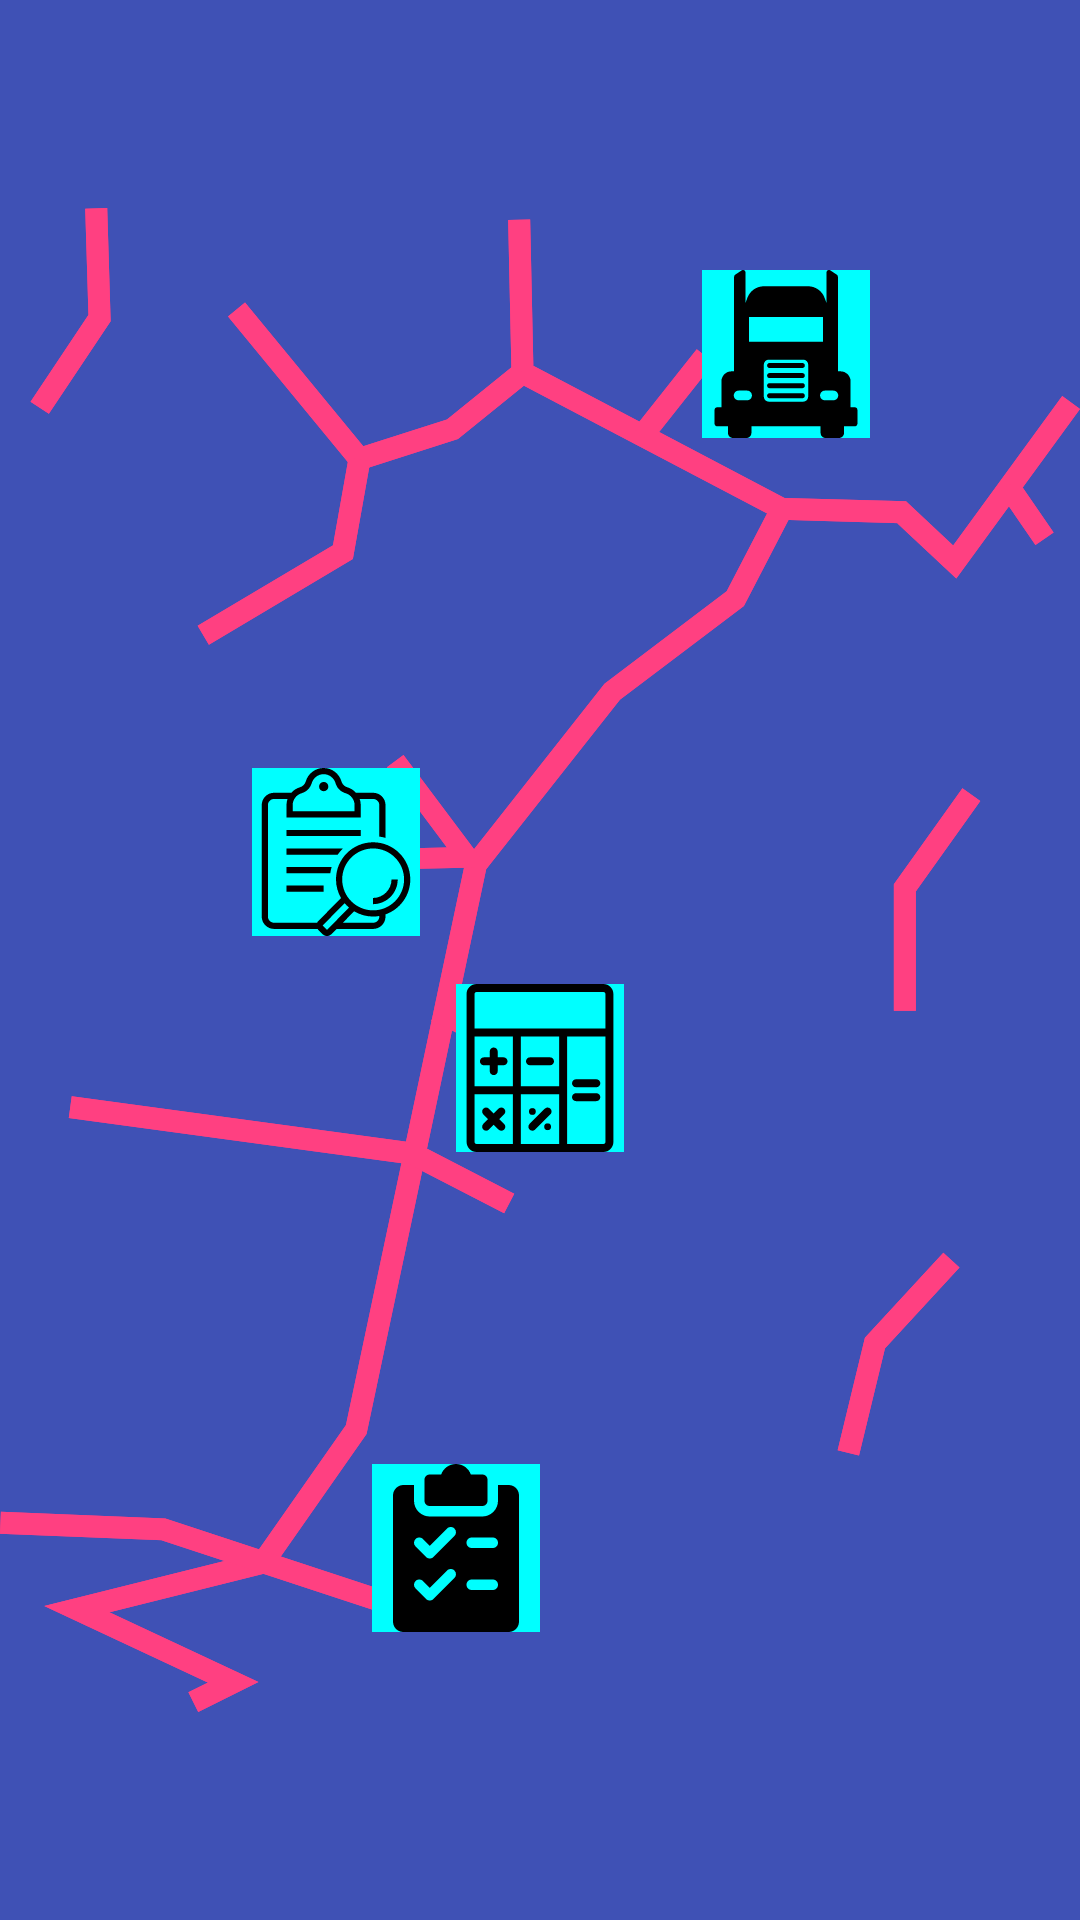

Icons on this 1080*1920 Android screen, each with its box as [left=x1, top=y1, right=x2, bottom=y2]:
calculator: [left=456, top=984, right=624, bottom=1152]
frontal truck: [left=702, top=270, right=870, bottom=438]
